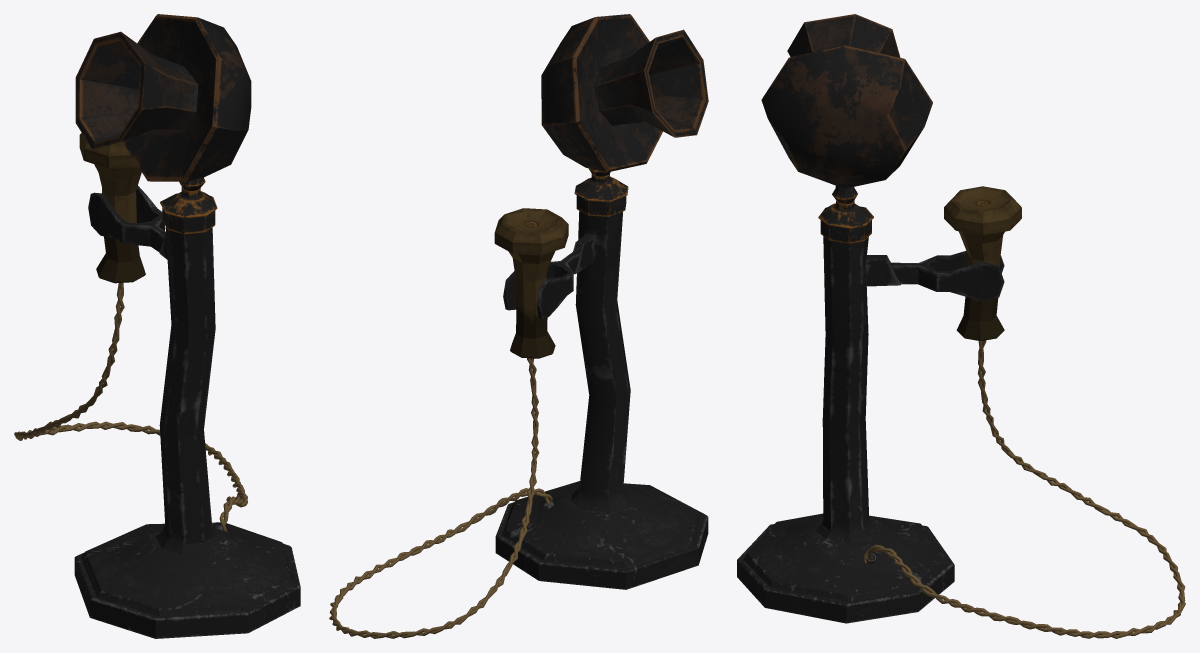
File: telephone.glb
3 views of the same model, side by side, from view 1: azimuth 30°, elevation 25°; view 2: azimuth 150°, elevation 25°; view 3: azimuth 270°, elevation 25° (orthographic). The views are drawn at different scales.
Visible parts, largest first — view 1: Object_2; view 2: Object_2; view 3: Object_2.
Part boxes in pixels (bbox=[...]): Object_2: bbox=[14, 14, 300, 638]; Object_2: bbox=[329, 14, 708, 638]; Object_2: bbox=[737, 14, 1185, 638].
Bounding box in the file's own units: 14.07 × 30.18 × 22.96.
1 material, 1 textured.
